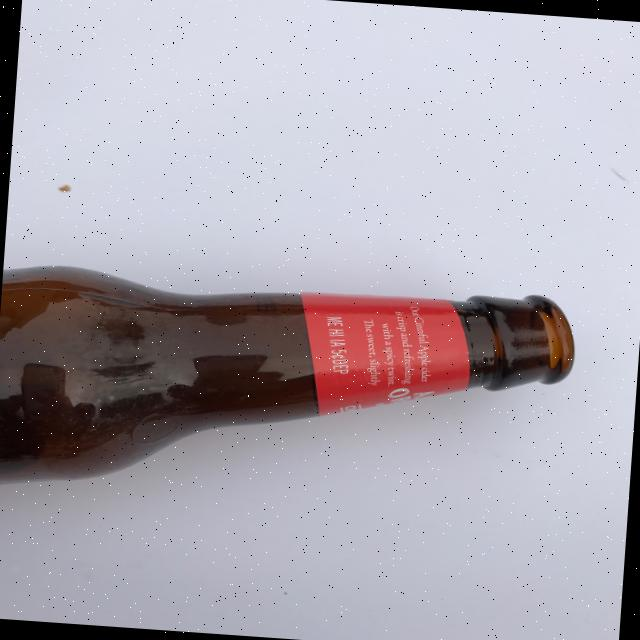glass: (0, 255, 579, 526)
